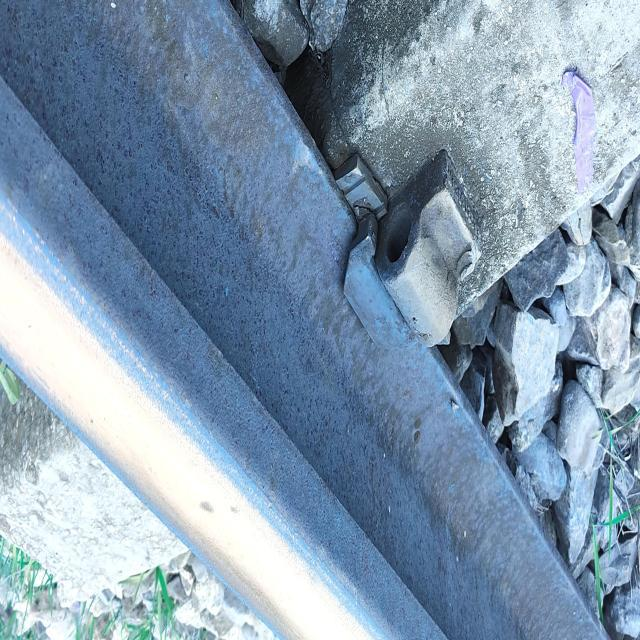Missing Fastener: (348, 147, 526, 382)
